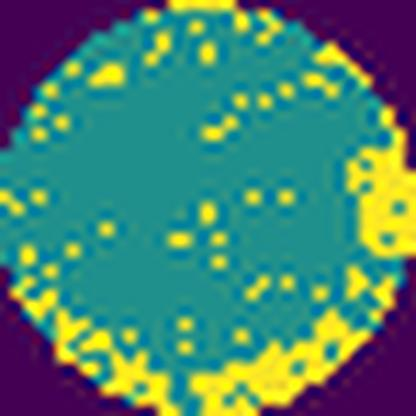Edge-Loc: (189, 312, 375, 416), (48, 310, 180, 415), (344, 121, 415, 259)
